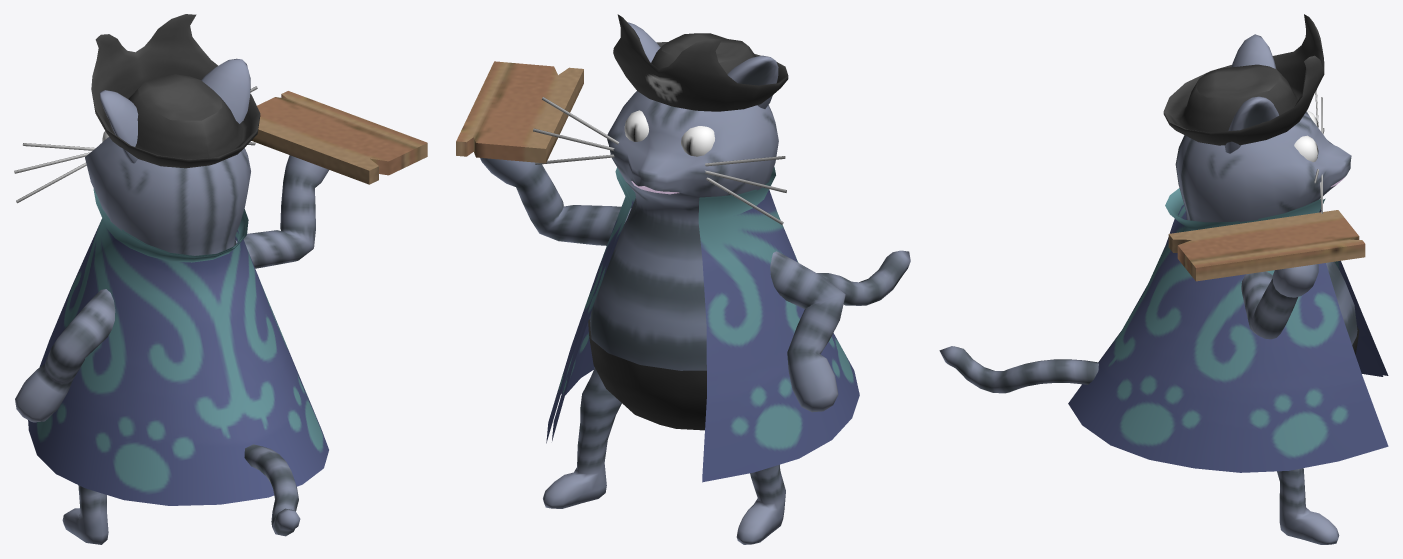
File: neko_idle_c_04.fbx
3 views of the same model, side by side, from view 1: azimuth 30°, elevation 25°; view 2: azimuth 150°, elevation 25°; view 3: azimuth 270°, elevation 25° (orthographic). The views are drawn at different scales.
Parts seen in each view (by area): view 1: I_c_04; view 2: I_c_04; view 3: I_c_04.
Boxes of the visible parts, left/top/right/bottom form: I_c_04: left=14, top=14, right=427, bottom=544; I_c_04: left=456, top=14, right=910, bottom=544; I_c_04: left=939, top=14, right=1388, bottom=544.
Bounding box in the file's own units: 1.55 × 1.93 × 1.7.
Materials: 1 (1 with a texture image).
